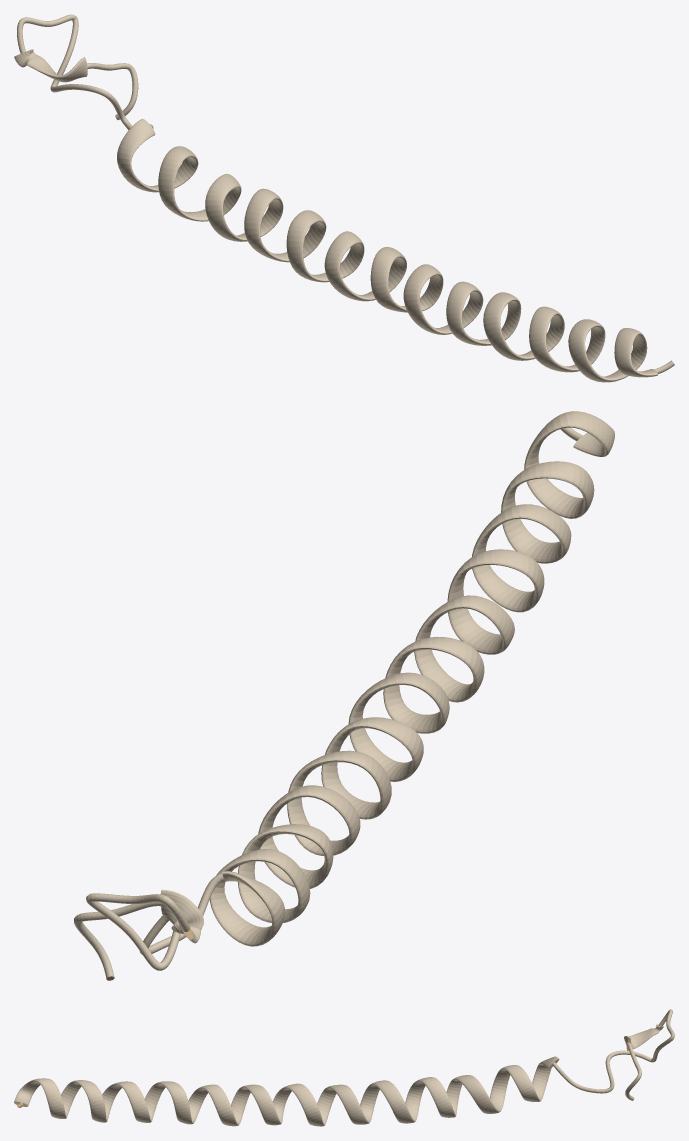
The model's file is rCoilHelixfCoil.dae.
3 views of the same model, one above another, from view 1: azimuth 30°, elevation 25°; view 2: azimuth 150°, elevation 25°; view 3: azimuth 270°, elevation 25° (orthographic). The views are drawn at different scales.
Parts seen in each view (by area): view 1: Shape_IndexedTriangleStripSet_062; view 2: Shape_IndexedTriangleStripSet_062; view 3: Shape_IndexedTriangleStripSet_062.
Boxes of the visible parts, box(x1,y1,x2,y2) form: Shape_IndexedTriangleStripSet_062: box(14, 14, 674, 382); Shape_IndexedTriangleStripSet_062: box(74, 411, 614, 980); Shape_IndexedTriangleStripSet_062: box(14, 1009, 674, 1126).
Size of the model in its own units: 19.63 by 80.54 by 11.6.
